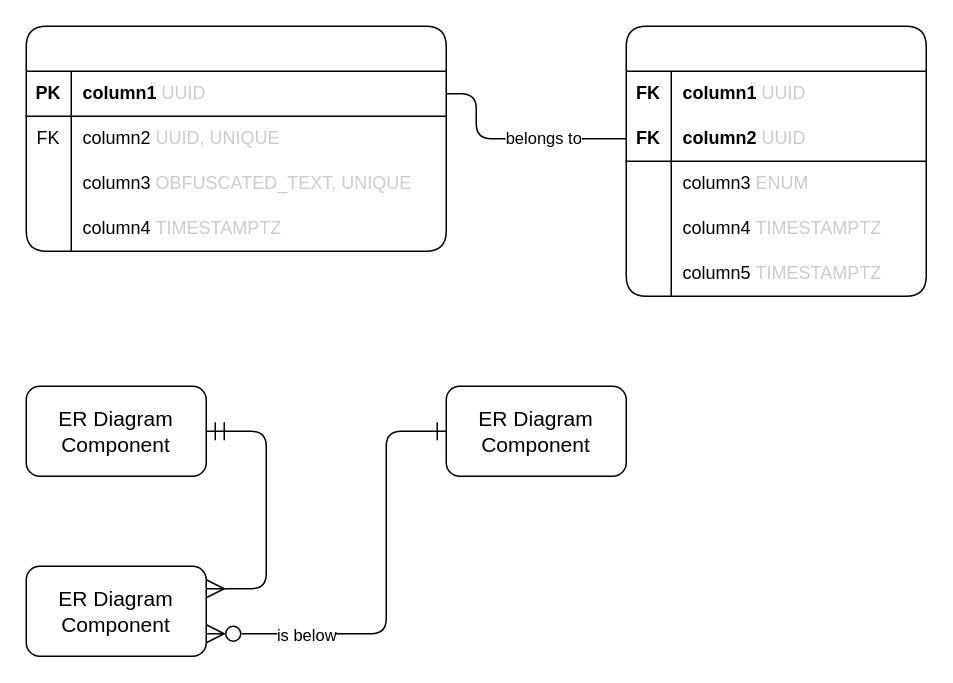
Image size: 953x683. Some labels were removed from this diagram. The shapes that lost their labels are listed below. From the top down, each one's box as (x1, y1, x2, y2) in pixels, then its label:
(25, 25, 446, 251): table_1
(625, 25, 926, 296): table_2
